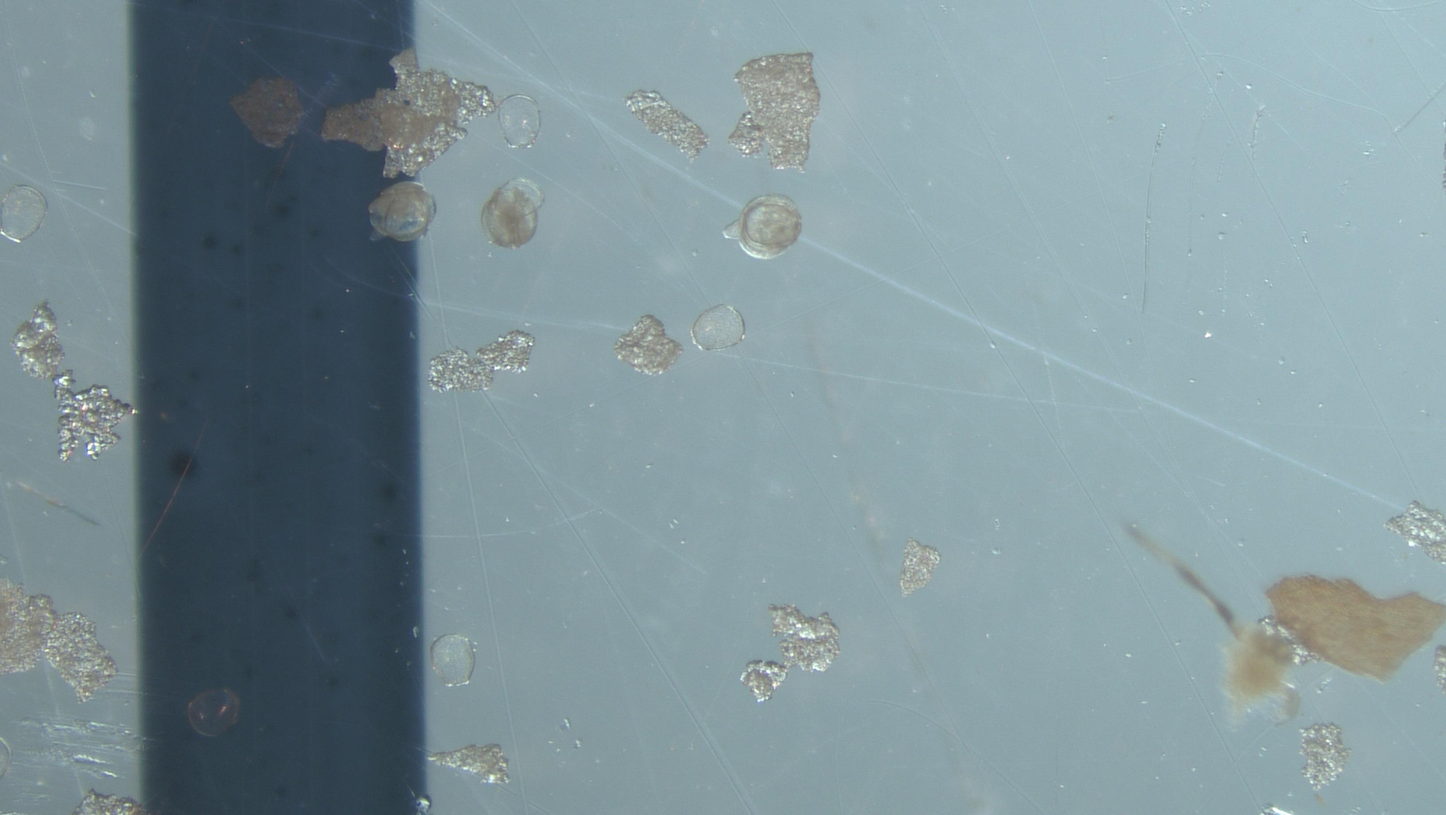dead: (0, 186, 47, 241), (691, 305, 746, 351), (187, 689, 240, 736), (430, 635, 475, 687), (496, 96, 541, 148)
live: (725, 195, 801, 260), (480, 179, 544, 248), (369, 182, 436, 241)
